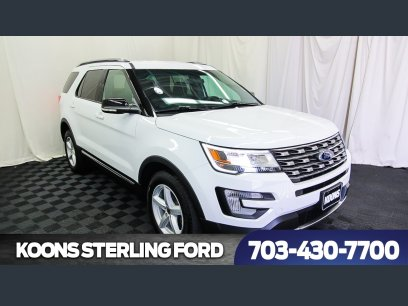Ford Explorer: (55, 57, 354, 233)
